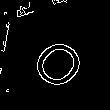O_NE: (20, 22, 90, 88)
